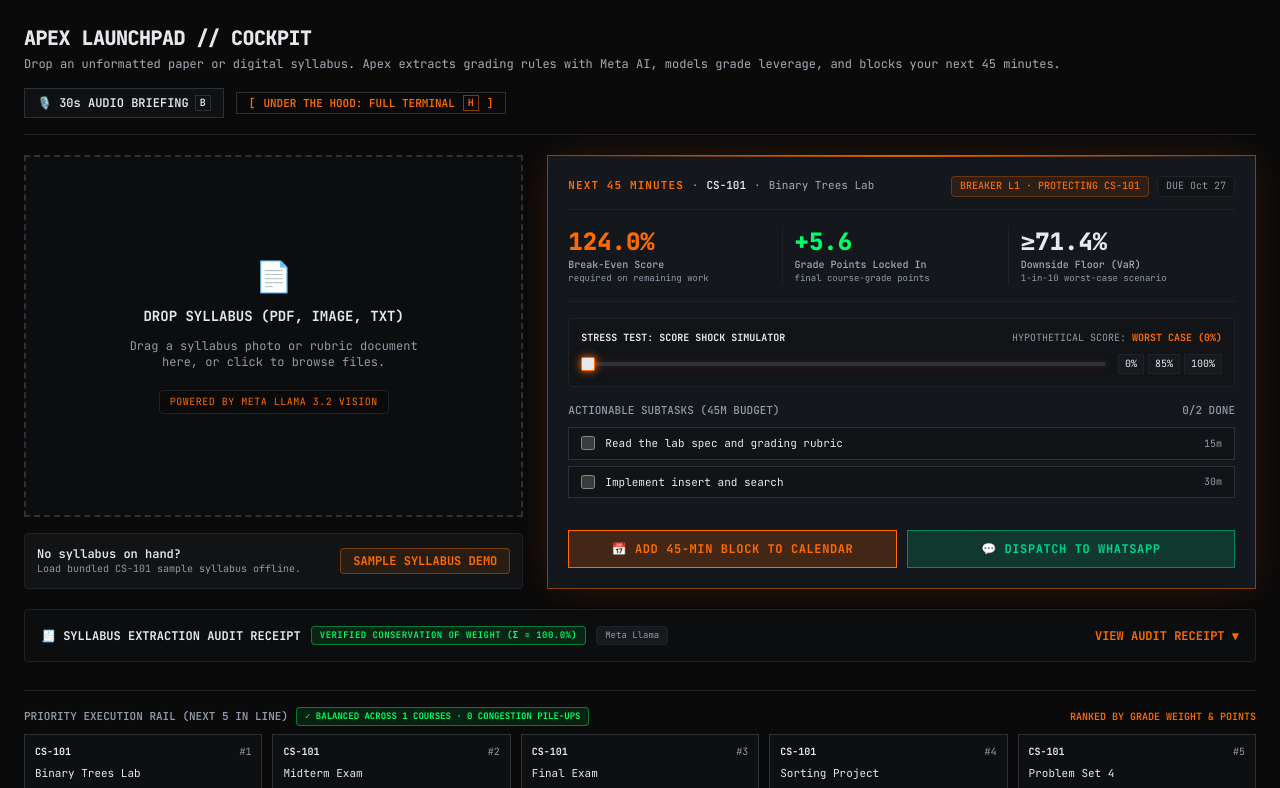
LaunchPad › toggles visual extraction audit receipt drawer with category weights verified
Check: the element with test id "extraction-audit-drawer" is shown, box 24,609 -> 1256,662
Check: the element with test id "extraction-audit-drawer" shows "SYLLABUS EXTRACTION AUDIT RECEIPT", box 41,628 -> 301,644
Step 1. Click the button with test id "toggle-audit-receipt" → [1167, 636], box 1095,628 -> 1239,644
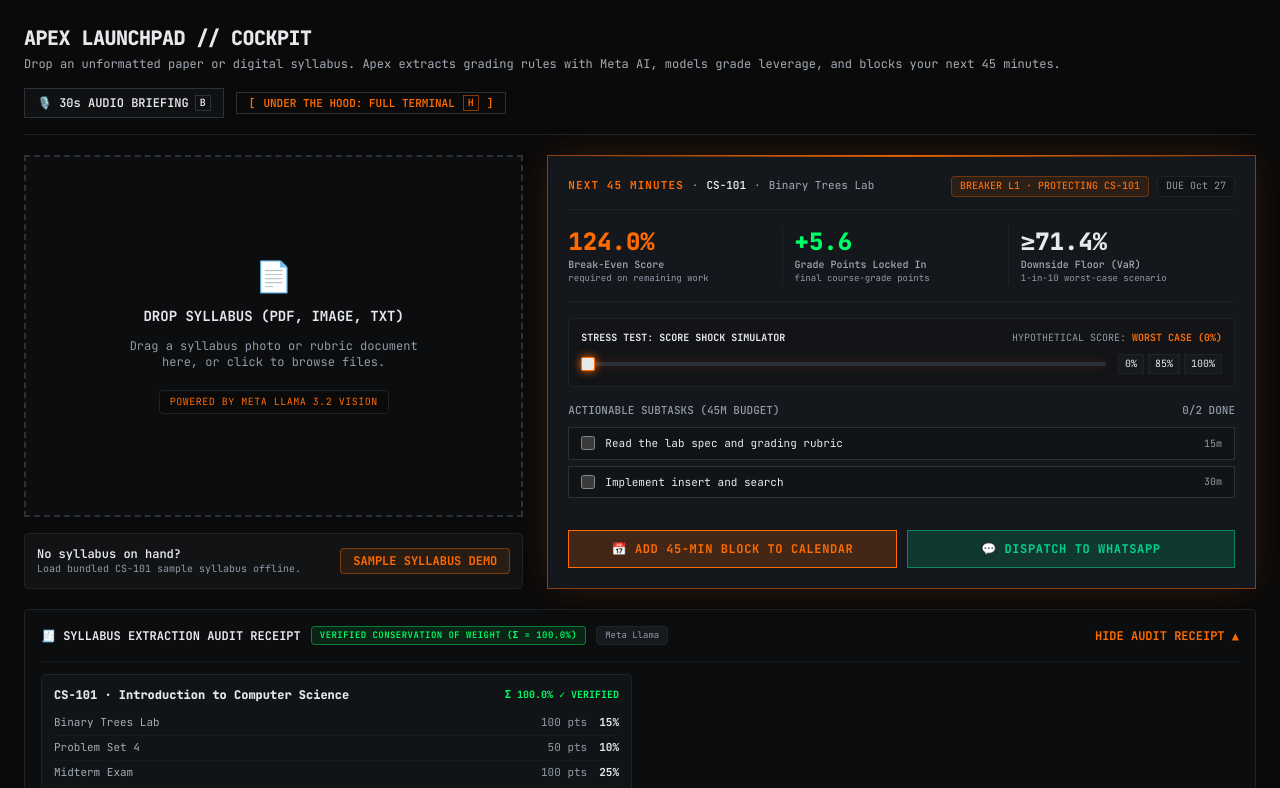
Note: Toggle close
Step 2. Click the button with test id "toggle-audit-receipt" → [1167, 636], box 1095,628 -> 1239,644
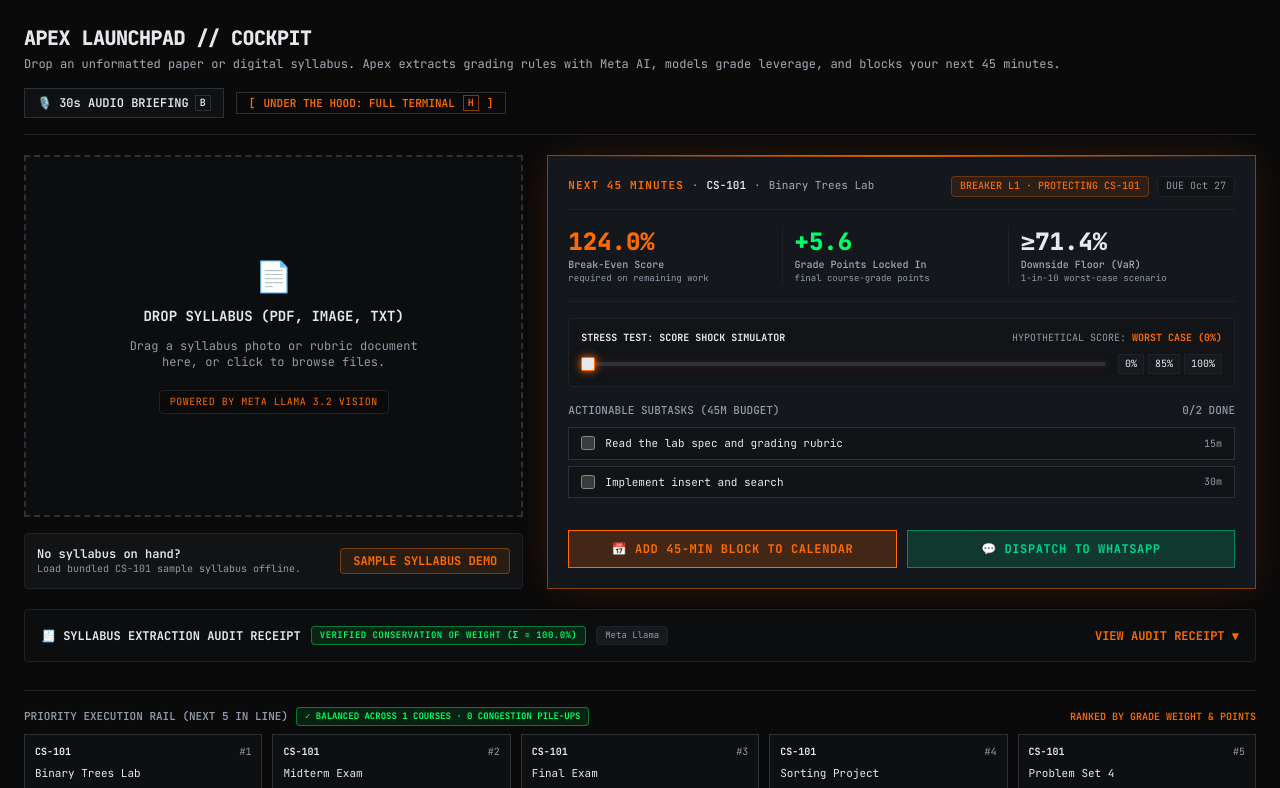
Check: the text with test id "extraction-audit-drawer" no longer shows "CS-101 · Introduction to Computer Science"
